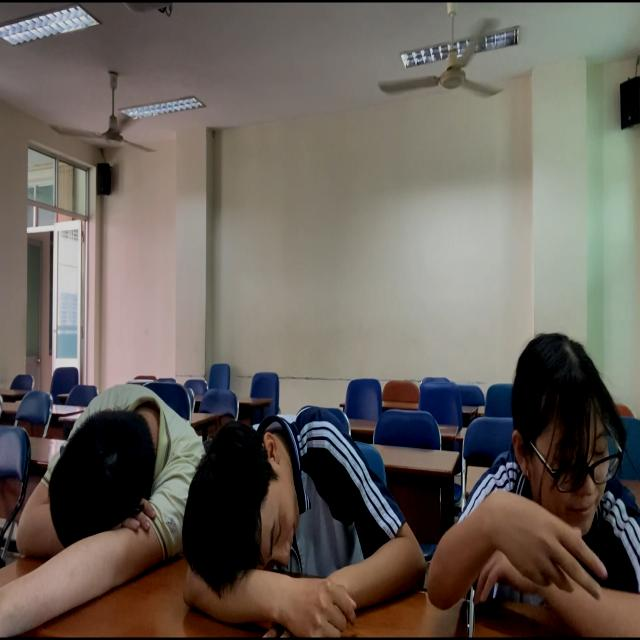sleep: (163, 390, 430, 640), (427, 339, 640, 640), (2, 365, 225, 640)
